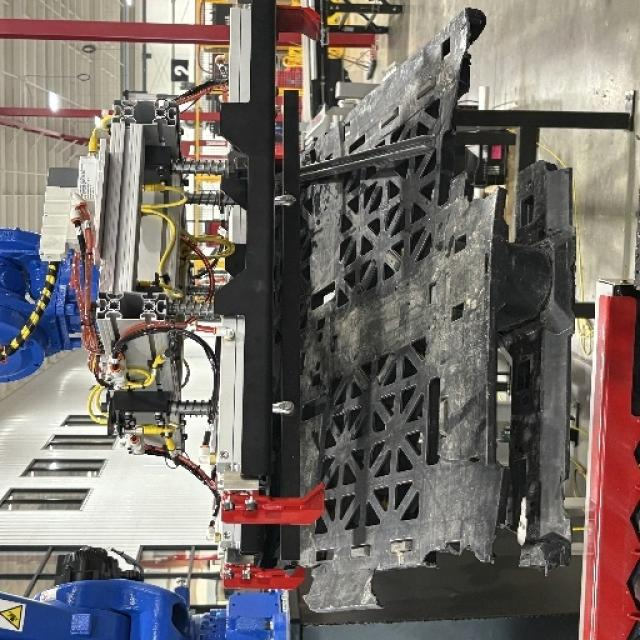igps: (281, 0, 588, 640)
